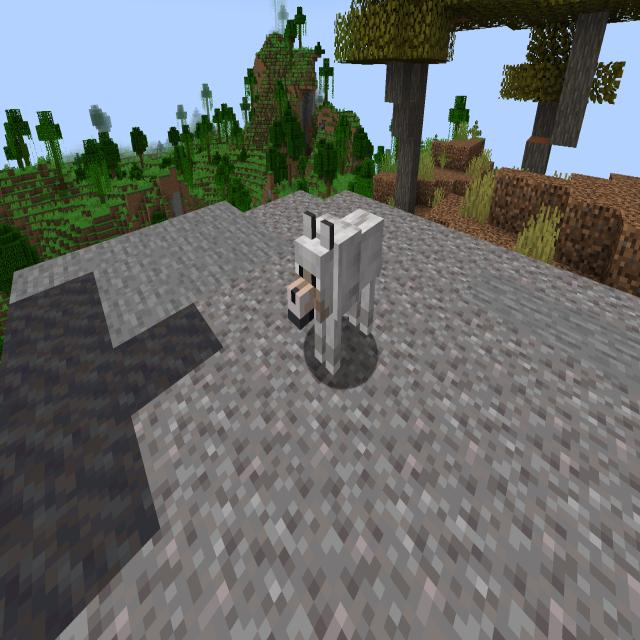Wolf: (280, 198, 400, 388)
